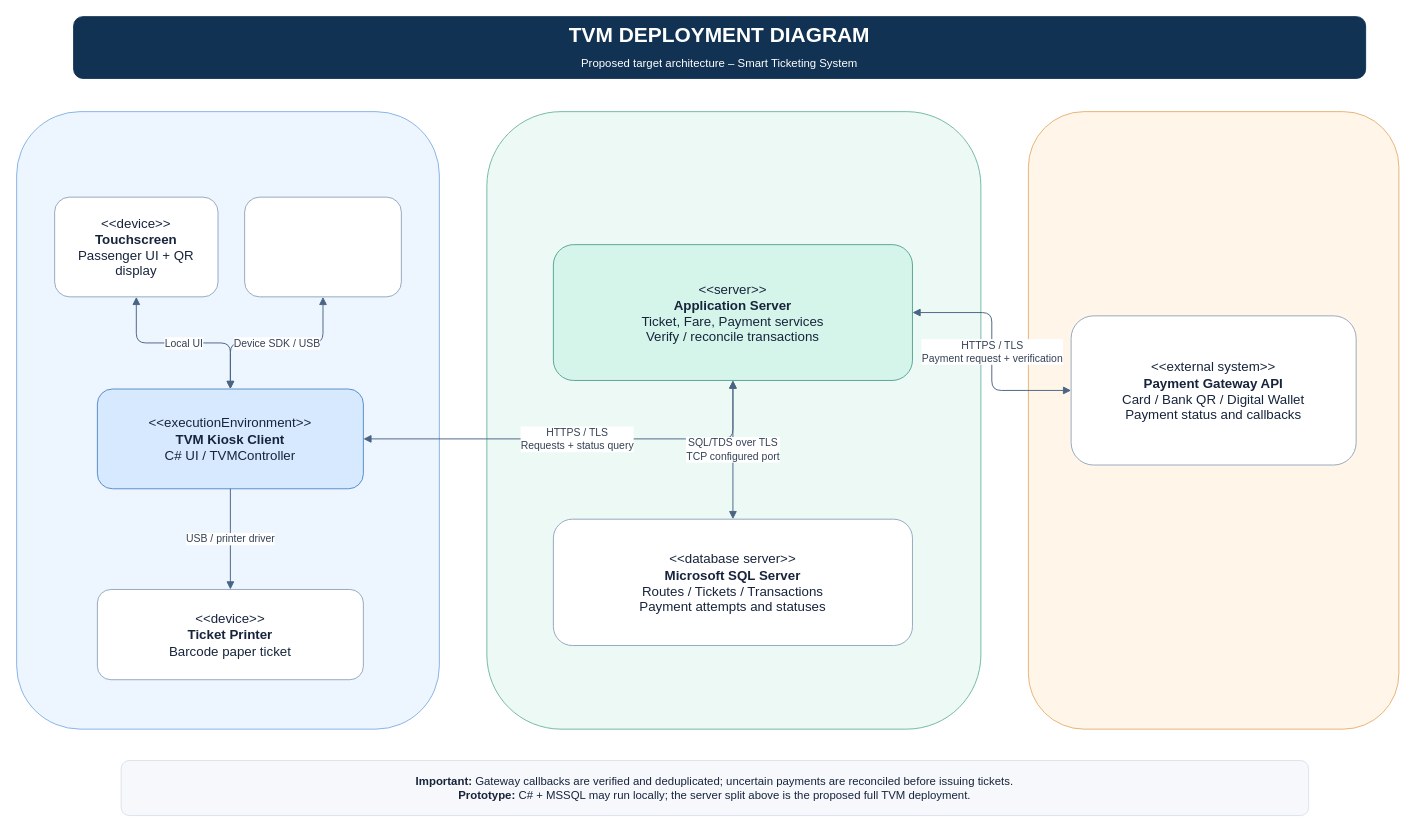
Some shapes in this 1416 by 832 pixel diagram are drawn without their labels. The box of each missing label's shape, as (x1, y1, x2, y2) in pixels:
<<device>> Card Reader Card insert / tap: (244, 196, 401, 297)
EXTERNAL PAYMENT PROVIDER: (1027, 111, 1399, 729)
TRUSTED BACKEND – Private network: (486, 111, 981, 729)
TVM KIOSK – Passenger site: (16, 111, 439, 729)
